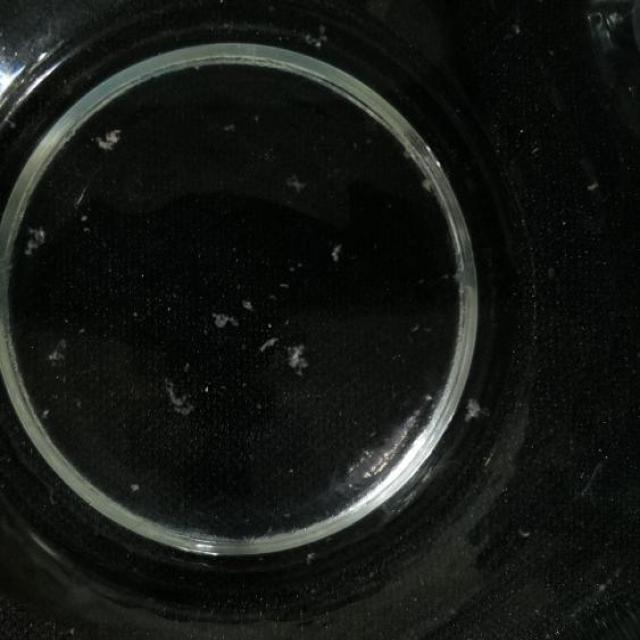fiber: (162, 378, 196, 423), (298, 20, 328, 52), (22, 222, 48, 258), (286, 344, 310, 380), (96, 122, 120, 156), (40, 340, 72, 364), (283, 169, 308, 197), (124, 477, 149, 504), (258, 326, 277, 360), (415, 172, 438, 200), (465, 398, 486, 422), (215, 308, 235, 328), (328, 247, 346, 267)
